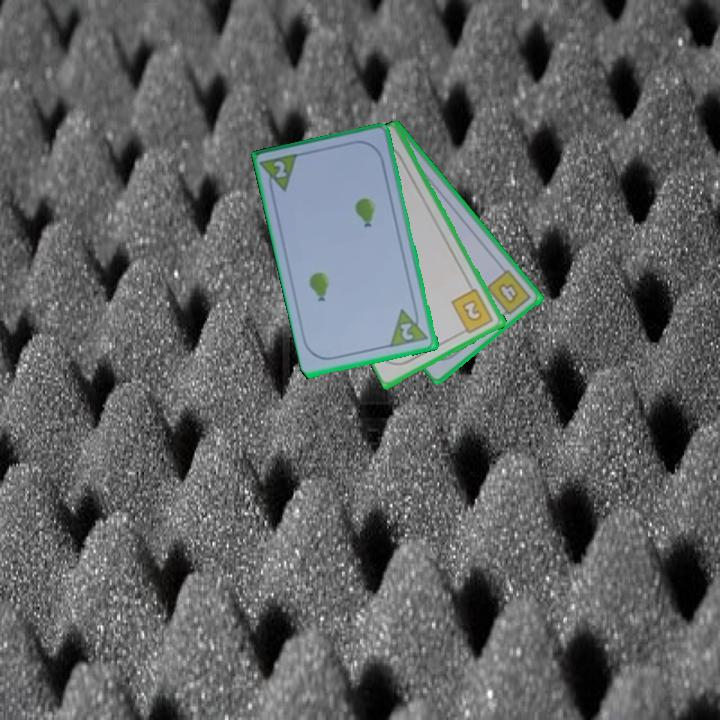2b: (448, 286, 496, 338)
2p: (387, 303, 432, 350), (270, 157, 290, 181)
4b: (483, 266, 535, 321)
